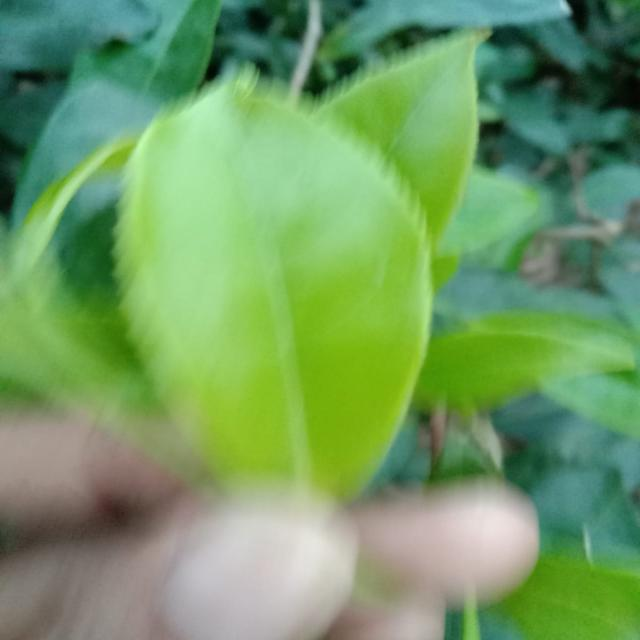Category C 4-7 days: (112, 66, 444, 498)
